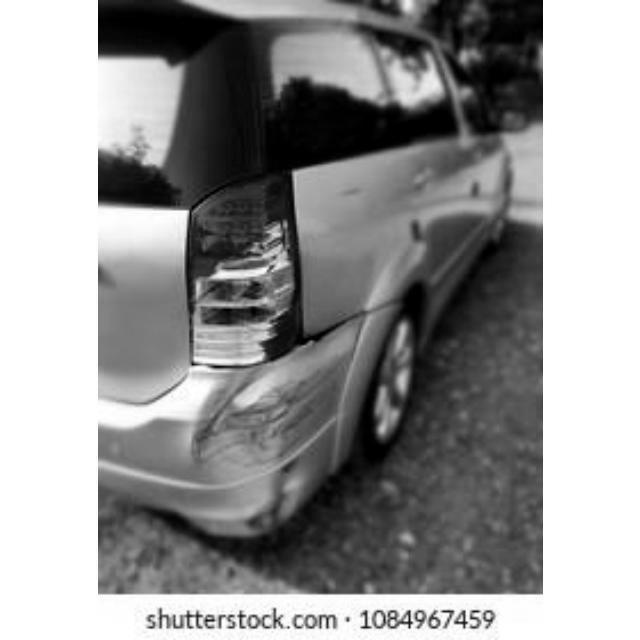Taillight-Damage: (171, 177, 337, 380)
rear-bumper-dent: (97, 302, 373, 544)
